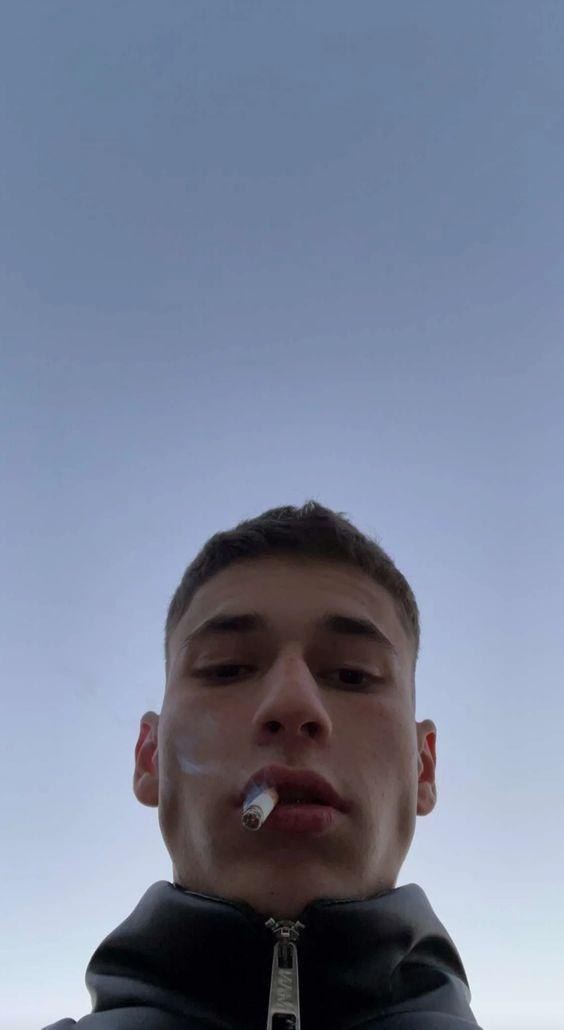cigarette: (241, 785, 280, 831)
